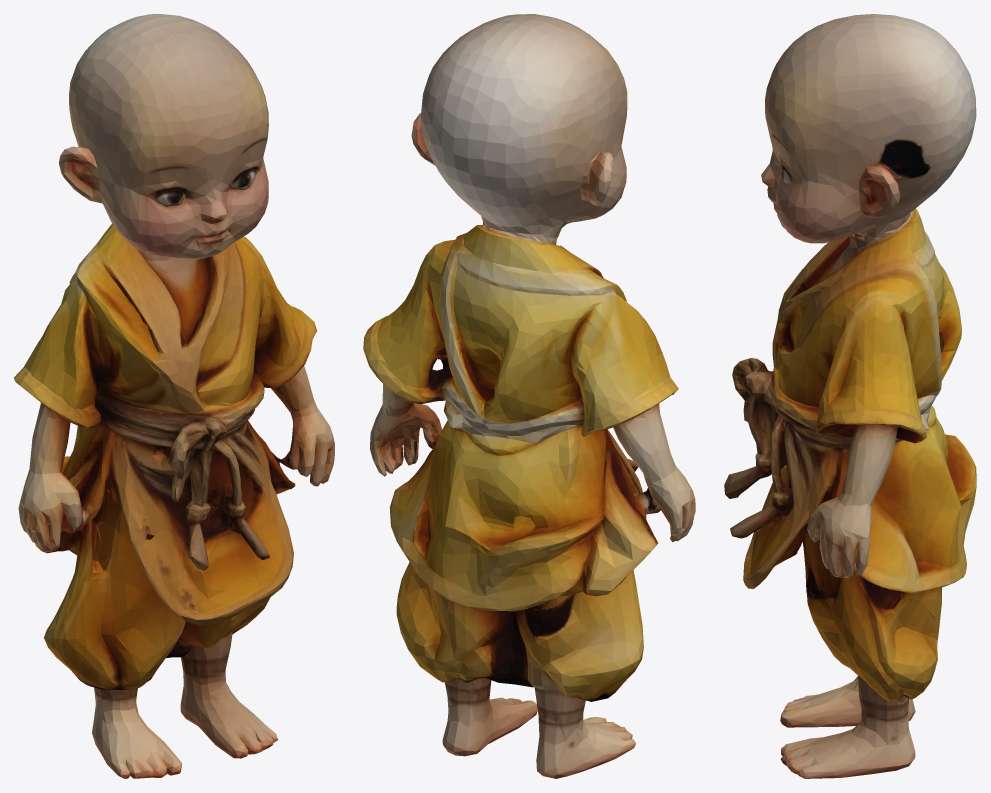
Rendered from avatar2.glb.
The picture shows the model from 3 angles, left to right: view 1: azimuth 30°, elevation 25°; view 2: azimuth 150°, elevation 25°; view 3: azimuth 270°, elevation 25°; orthographic projection. The views are drawn at different scales.
Parts seen in each view (by area): view 1: geometry_0; view 2: geometry_0; view 3: geometry_0.
Part boxes in pixels (x1,y1,x2,y2): geometry_0: [14, 14, 334, 778]; geometry_0: [363, 14, 695, 778]; geometry_0: [724, 14, 976, 778].
Size of the model in its own units: 0.4517 by 1 by 0.3185.
1 material, 1 textured.
